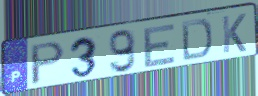3: (69, 34, 102, 81)
9: (108, 28, 138, 74)
D: (180, 18, 214, 63)
E: (142, 22, 178, 70)
K: (220, 12, 248, 56)
P: (29, 40, 67, 88)
